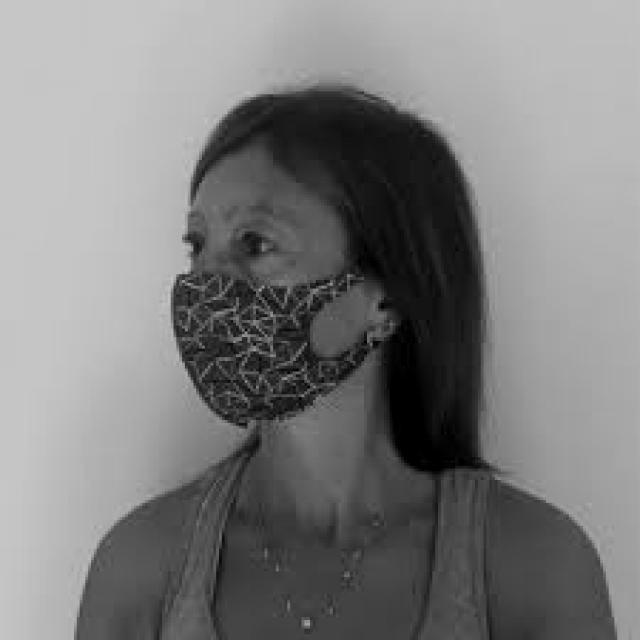fake: (152, 269, 422, 466)
real: (175, 143, 385, 448)
